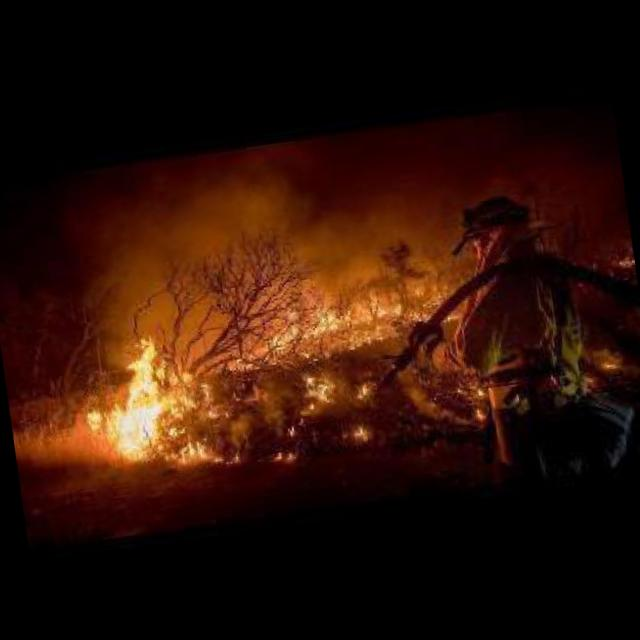fire: (75, 282, 410, 474)
